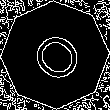O_SE: (21, 21, 89, 89)
